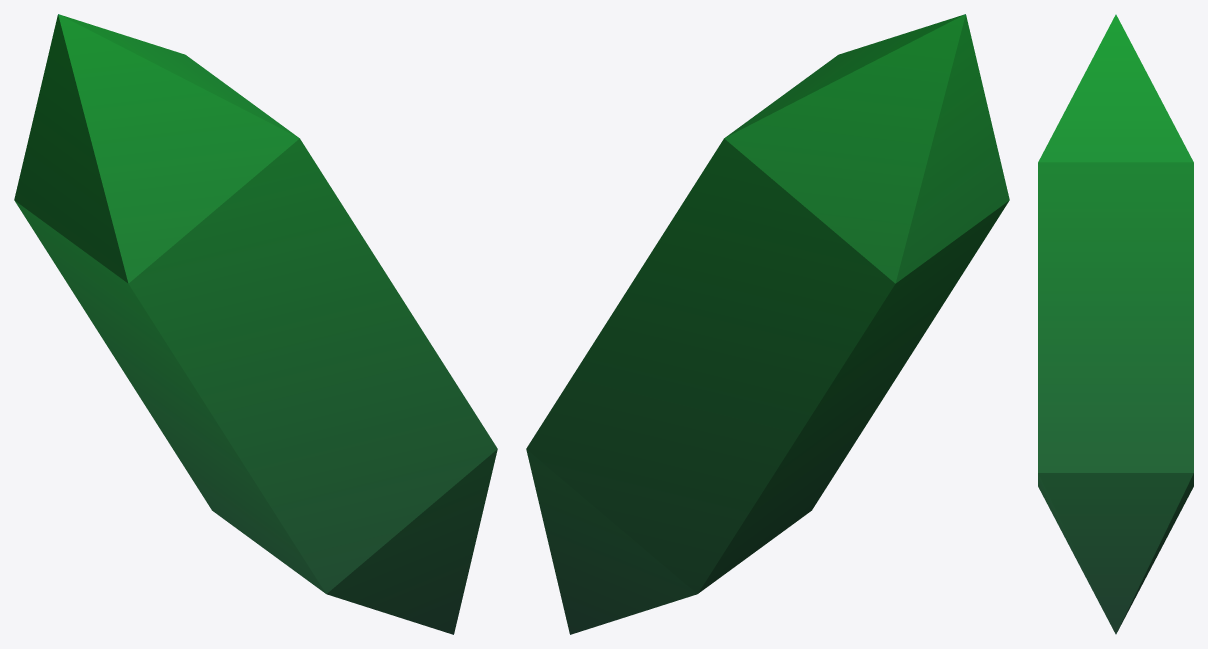
File: Gem2.fbx
3 views of the same model, side by side, from view 1: azimuth 30°, elevation 25°; view 2: azimuth 150°, elevation 25°; view 3: azimuth 270°, elevation 25° (orthographic). The views are drawn at different scales.
Visible parts, largest first — view 1: Gem2; view 2: Gem2; view 3: Gem2.
Boxes of the visible parts, left/top/right/bottom form: Gem2: left=14, top=14, right=497, bottom=634; Gem2: left=526, top=14, right=1009, bottom=634; Gem2: left=1038, top=14, right=1193, bottom=634.
Bounding box in the file's own units: 0.25 × 0.433 × 0.125.
